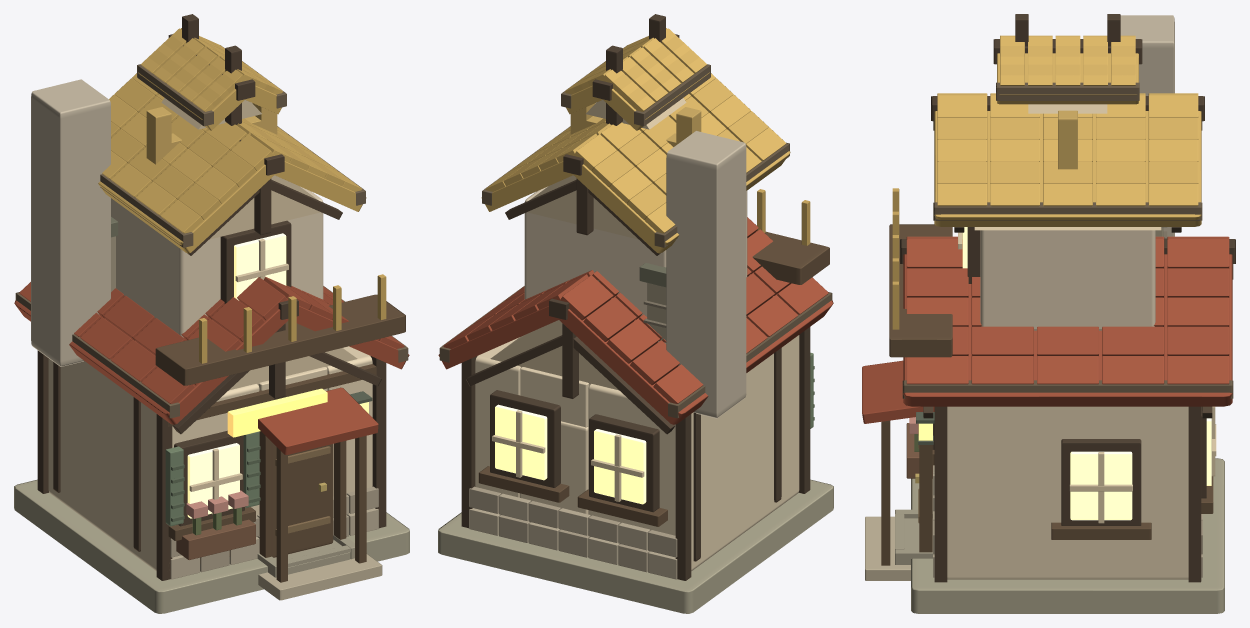
File: workshop-4-0.glb
3 views of the same model, side by side, from view 1: azimuth 30°, elevation 25°; view 2: azimuth 150°, elevation 25°; view 3: azimuth 270°, elevation 25° (orthographic). The views are drawn at different scales.
Parts seen in each view (by area): view 1: workshop-0-4, door-hinge; view 2: workshop-0-4; view 3: workshop-0-4.
Boxes of the visible parts, left/top/right/bottom form: workshop-0-4: left=14, top=14, right=409, bottom=613; door-hinge: left=271, top=442, right=333, bottom=557; workshop-0-4: left=438, top=14, right=833, bottom=613; workshop-0-4: left=862, top=14, right=1235, bottom=613.
Size of the model in its own units: 1.91 by 3.51 by 2.24.
